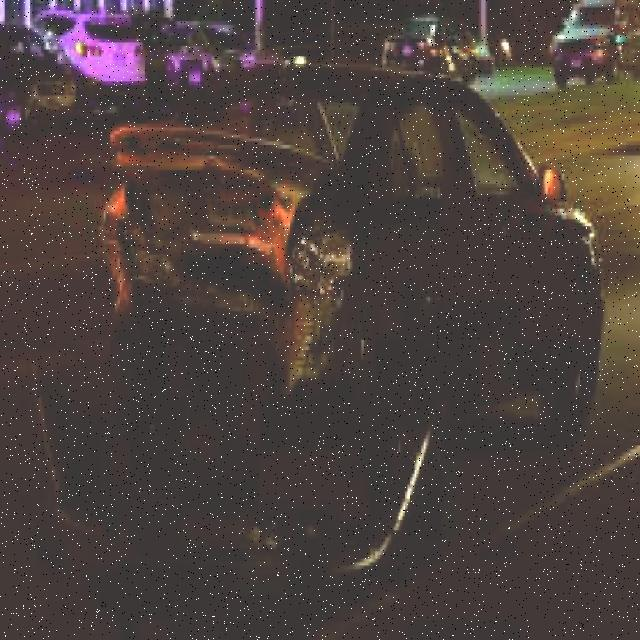car damage: (114, 121, 357, 416)
